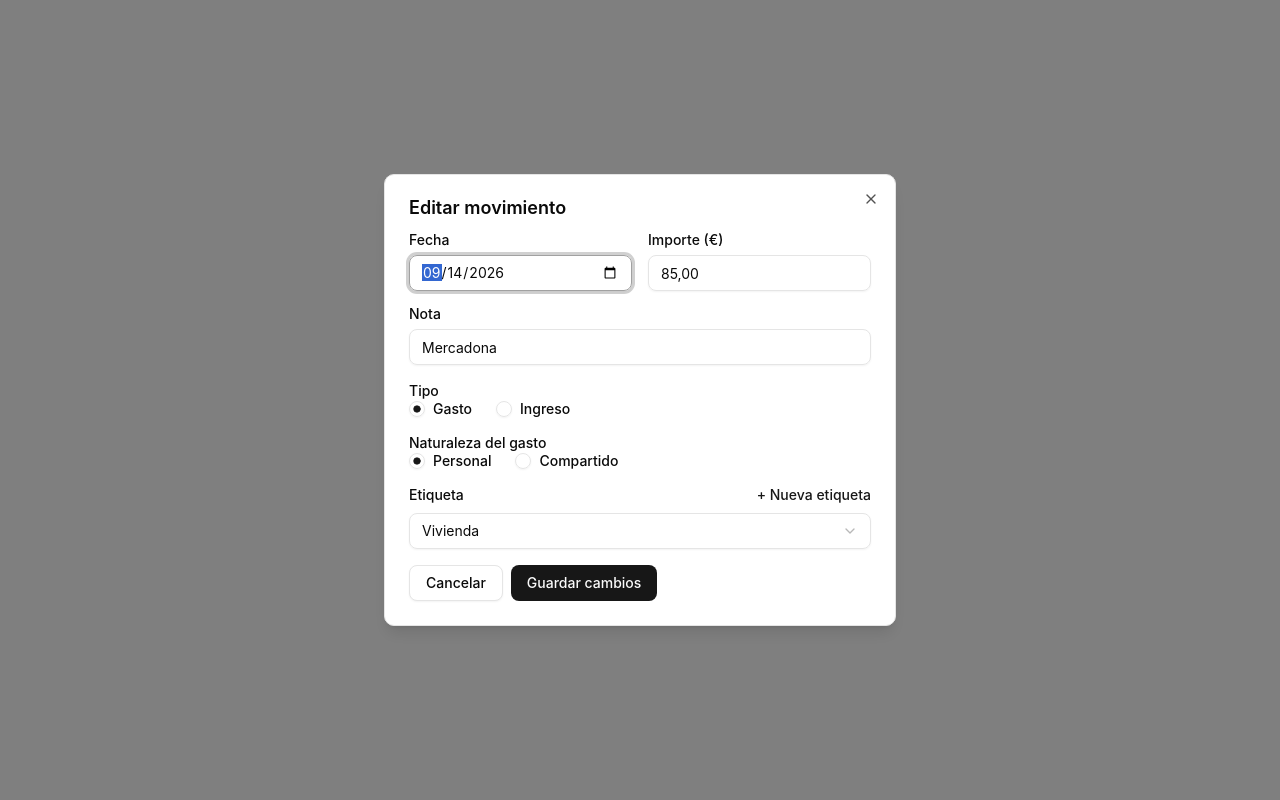
Test case: EditMovementDialog › error _form mantiene el diálogo abierto y muestra el error
Click the button "Guardar cambios" at (584, 583), box [511, 565, 657, 601]
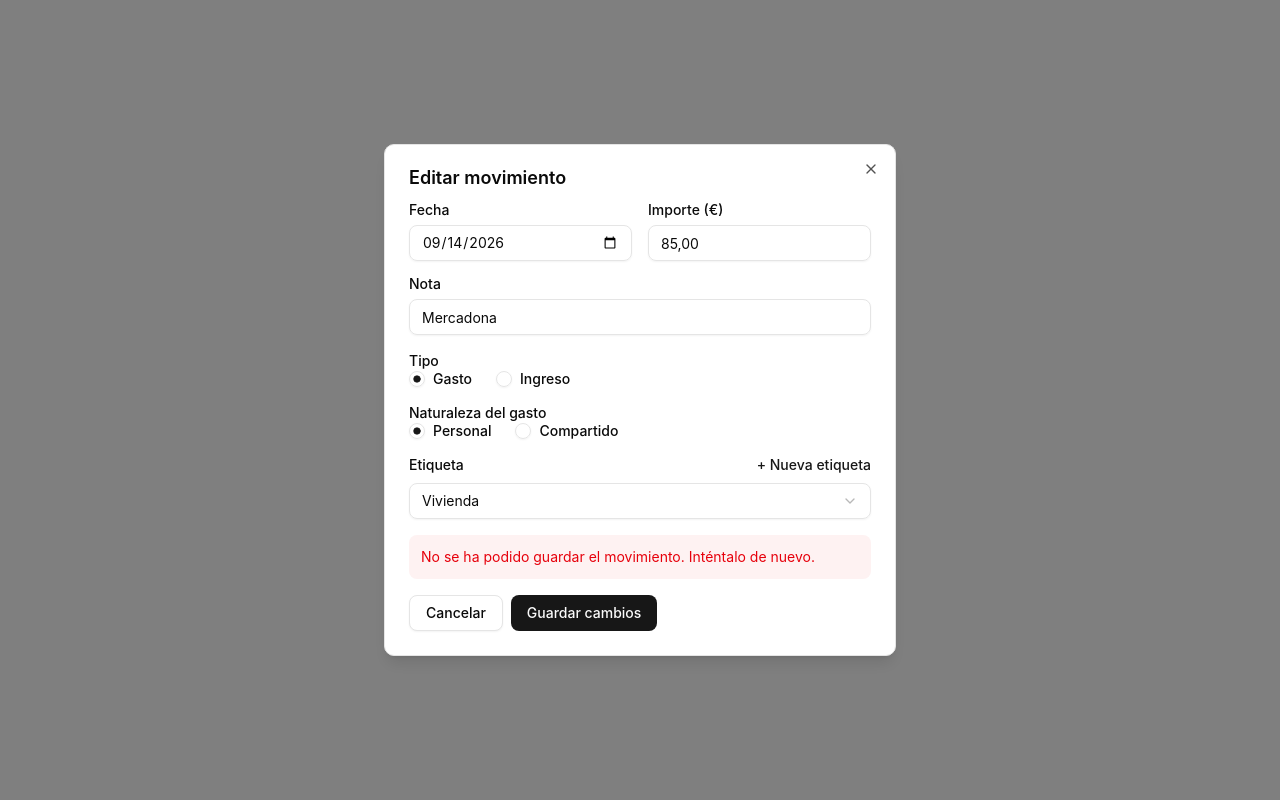
Check: the dialog is shown, box [384, 144, 896, 656]
Check: the text "No se ha podido guardar el movimiento. Inténtalo de nuevo." is shown, box [409, 535, 871, 579]
